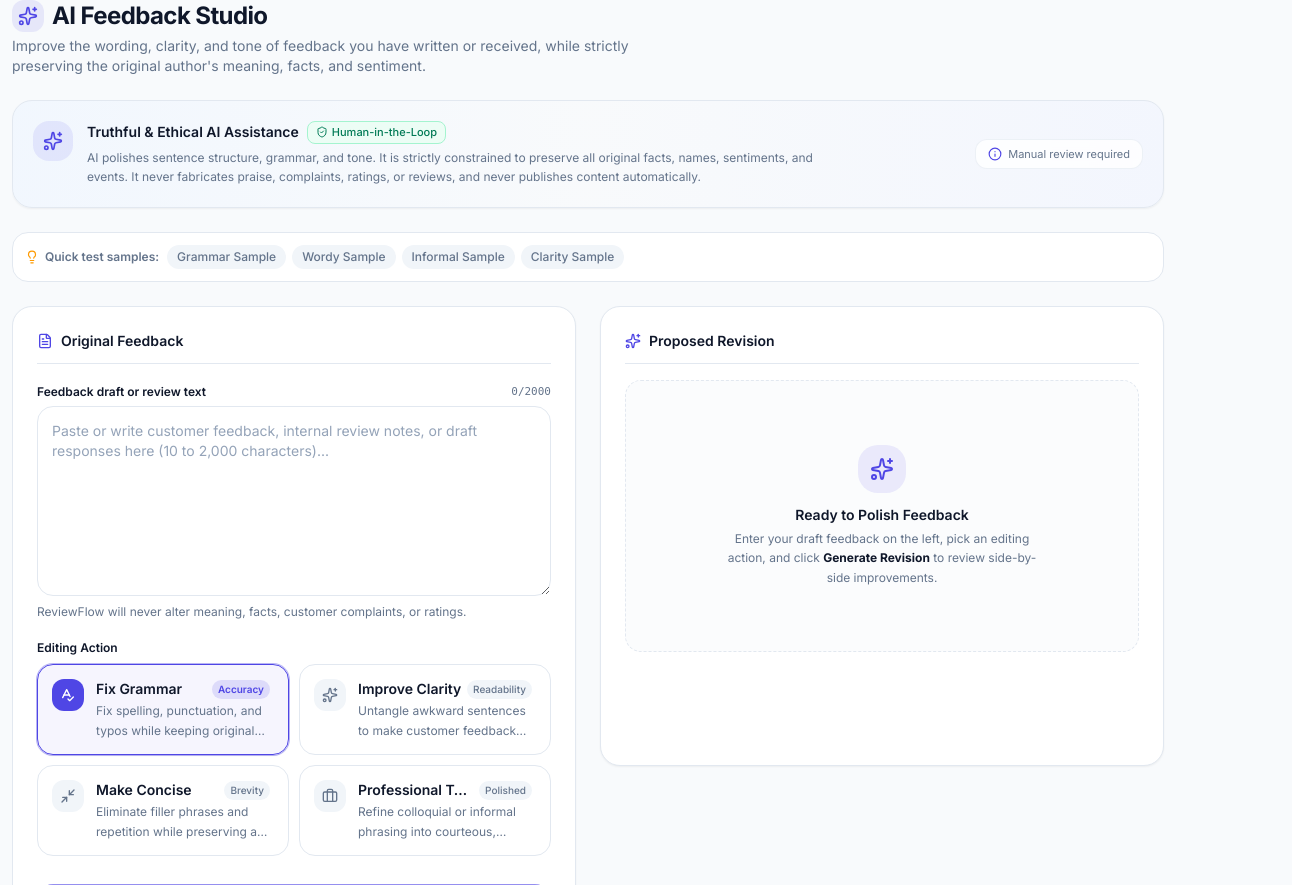
Test: AI Feedback Studio Component › loads sample drafts when clicking quick sample buttons
Click the button "Grammar Sample" at (227, 256), box 167,244 -> 286,268
(page scrolled)
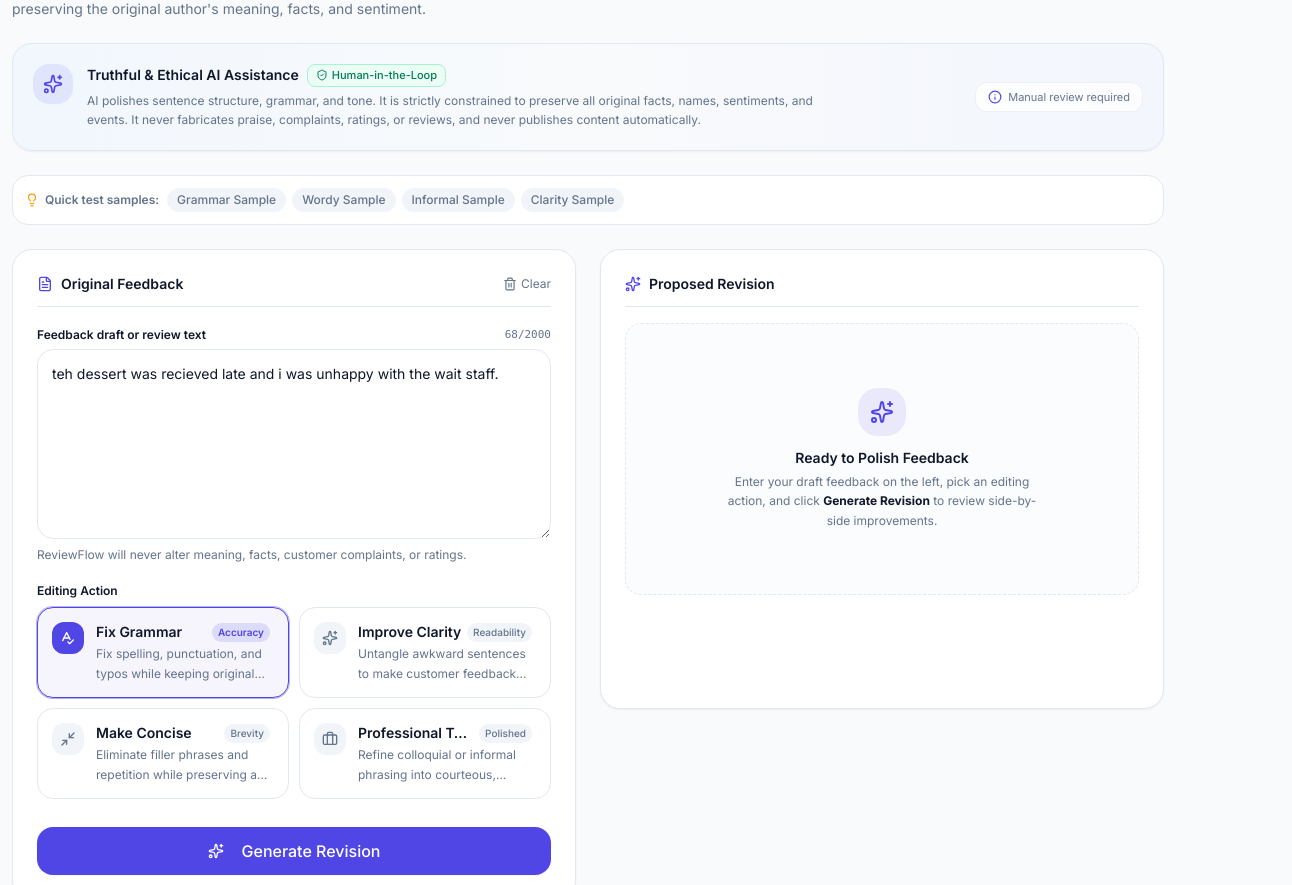
Check: the button "Generate Revision" is enabled, box 37,827 -> 551,875
